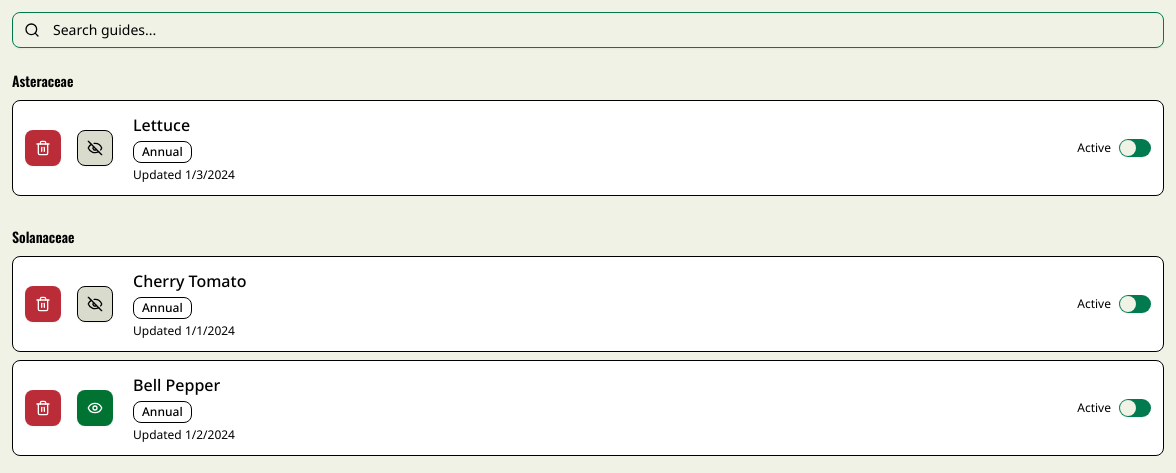
Test: GrowGuideListPresenter › Search Functionality › shows no results message when search yields no matches
Type "nonexistent" into the field with placeholder "Search guides..." at (588, 30), box [12,12,1164,48]
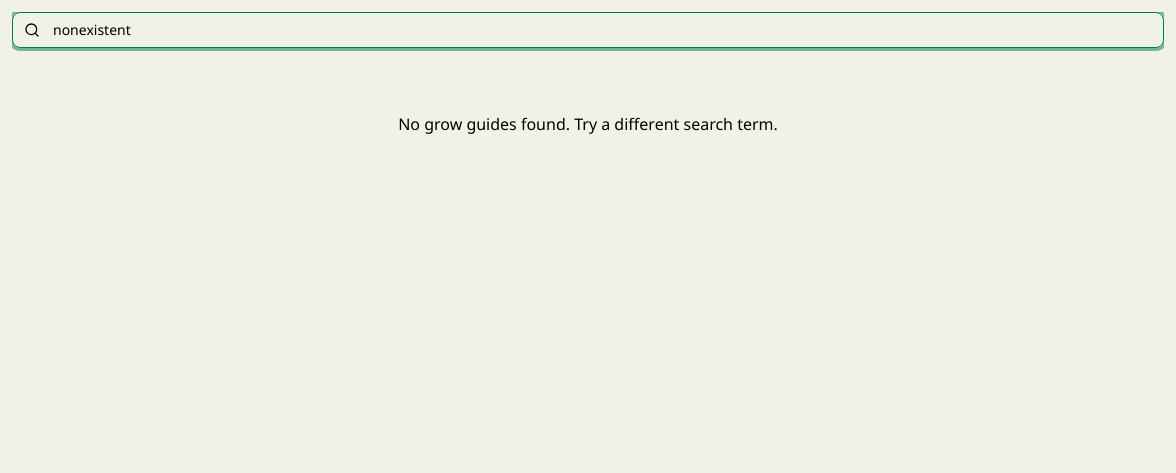
Expected: the text "No grow guides found. Try a different search term." is shown, [398,114,778,134]
